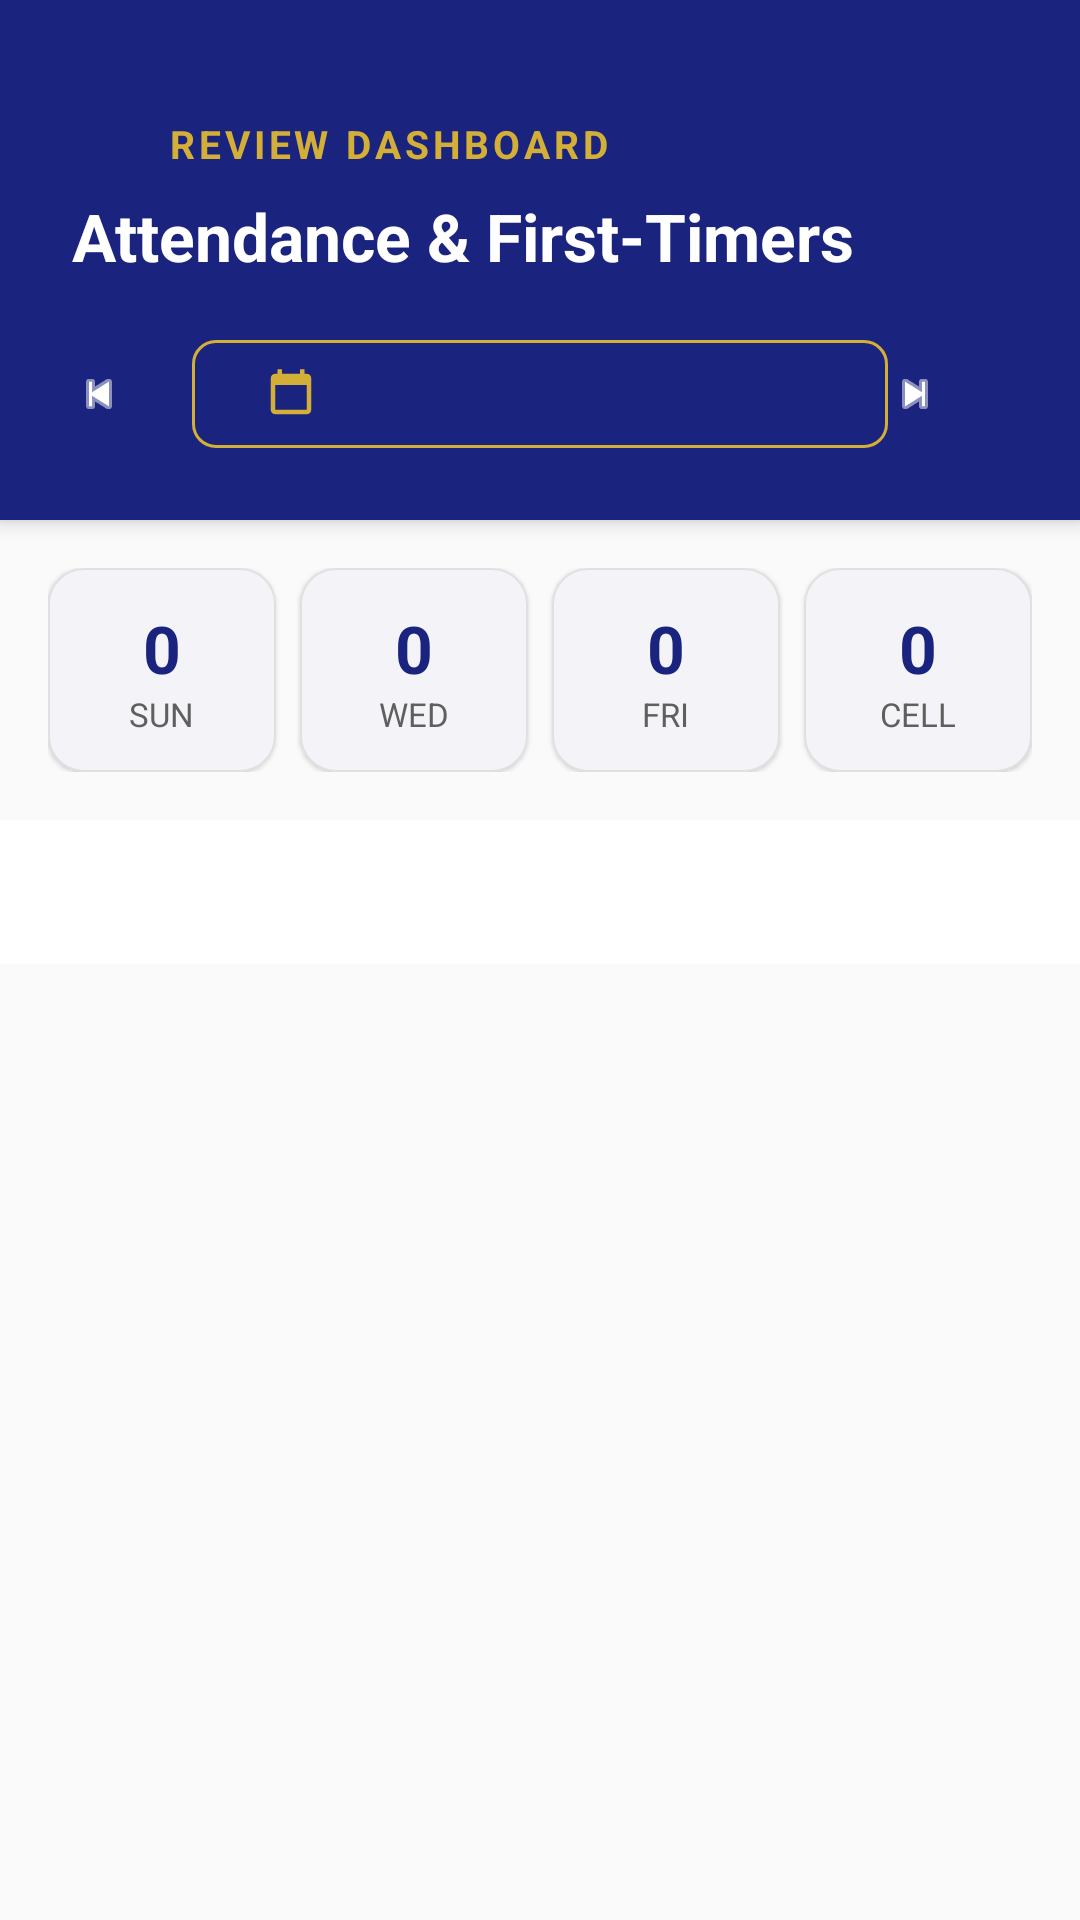

Screen size 1080×1920. Icon name, then its box in pixels as {"x1": x1, "y1": y1, "x2": x2, "y2": y2}:
next: {"x1": 902, "y1": 379, "x2": 928, "y2": 409}
previous: {"x1": 86, "y1": 379, "x2": 112, "y2": 409}
